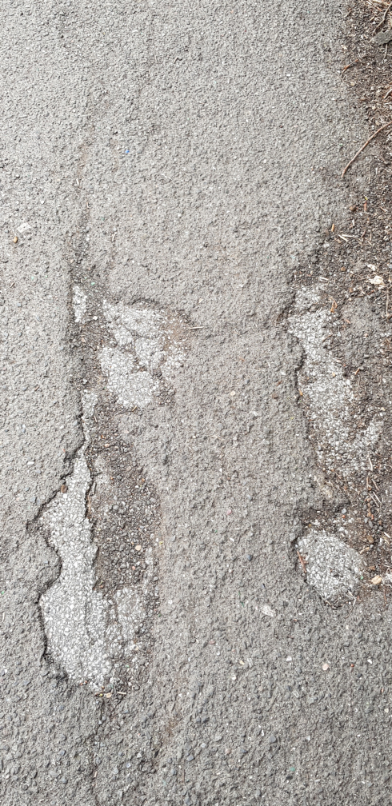pothole: (23, 269, 188, 706), (280, 274, 383, 459), (285, 494, 380, 608)
